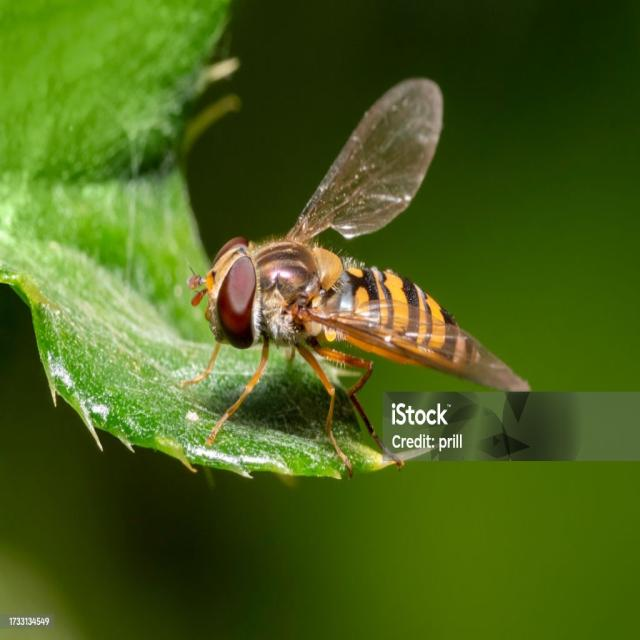hoverfly: (178, 76, 534, 480), (245, 157, 254, 159)
